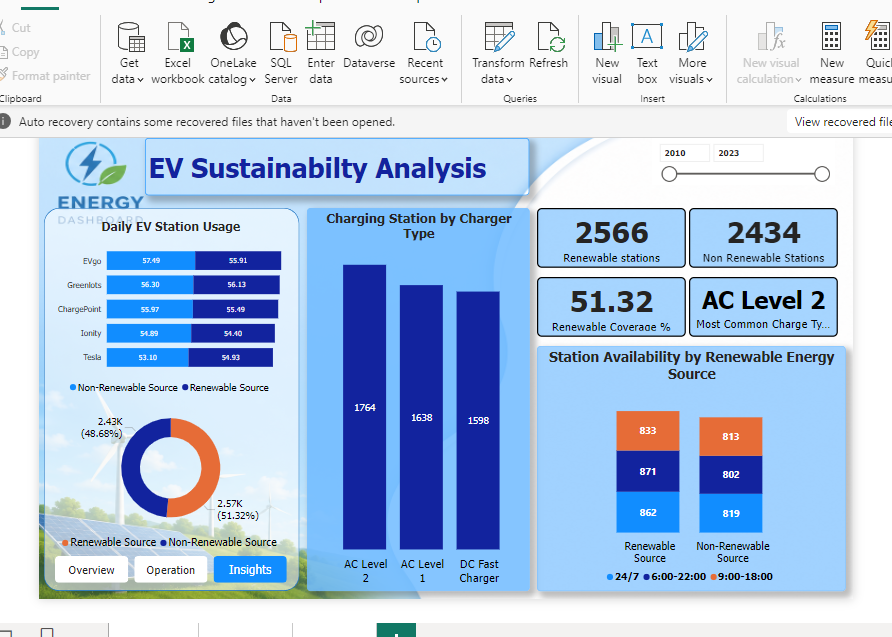

Layout of this report page (visuals, bound fields, positions):
{"tool":"powerbi","page":{"name":"Insights","canvas":[1334,770],"ordinal":2},"visuals":[{"type":"shape","box":[7.4,129.6,418.5,627.8],"z":0},{"type":"donutChart","title":"Renewable Energy Adoption","fields":{"Category":["detailed_ev_charging_stations.Renewable Energy Source"],"Y":["Count(detailed_ev_charging_stations.Station ID)"]},"box":[13.9,444.4,405.6,255.6],"z":1000},{"type":"clusteredColumnChart","title":"Charging Station by Charger Type","fields":{"Category":["detailed_ev_charging_stations.Charger Type"],"Y":["CountNonNull(detailed_ev_charging_stations.Station ID)"]},"box":[438.9,129.6,364.8,627.8],"z":2000},{"type":"columnChart","title":"Station Availability by Renewable Energy Source ","fields":{"Category":["detailed_ev_charging_stations.Renewable Energy Source"],"Series":["detailed_ev_charging_stations.Availability"],"Y":["CountNonNull(detailed_ev_charging_stations.Station ID)"]},"box":[816.7,355.6,505.6,401.9],"z":3000},{"type":"barChart","title":"Daily EV Station Usage","fields":{"Category":["detailed_ev_charging_stations.Station Operator"],"Y":["Avg(detailed_ev_charging_stations.Usage Stats (avg users/day))"],"Series":["detailed_ev_charging_stations.Renewable Energy Source"]},"box":[13,148.1,405.6,296.3],"z":4000},{"type":"slicer","fields":{"Values":["detailed_ev_charging_stations.Installation Year"]},"box":[1005.4,14.3,300,76.8],"z":5000},{"type":"card","fields":{"Values":["Avg Review Score.Renewable Coverage %"]},"box":[816.7,242.6,244.4,98.1],"z":6000},{"type":"card","fields":{"Values":["Avg Review Score.Most Common Charge Type"]},"box":[1064.8,242.9,244,98.4],"z":7000},{"type":"card","fields":{"Values":["Avg Review Score.Renewable stations"]},"box":[816.7,129.6,244.4,98.1],"z":8000},{"type":"card","fields":{"Values":["Avg Review Score.Non Renewable Stations"]},"box":[1064.8,129.6,244.4,98.1],"z":9000},{"type":"shape","box":[174.1,14.8,629.6,94.4],"z":9001},{"type":"pageNavigator","box":[26.4,700,381.9,44.4],"z":9002}]}

Visuals, with their boxes on the page's 1334x770 design canvas (x1, y1, x2, y2). These are canvas units, not pixel positions in the 892x637 screenshot, which may show the page scaled, cropped or inside an application window:
shape: left=7, top=130, right=426, bottom=757
"Renewable Energy Adoption" donutChart: left=14, top=444, right=420, bottom=700
"Charging Station by Charger Type" clusteredColumnChart: left=439, top=130, right=804, bottom=757
"Station Availability by Renewable Energy Source " columnChart: left=817, top=356, right=1322, bottom=758
"Daily EV Station Usage" barChart: left=13, top=148, right=419, bottom=444
slicer - detailed_ev_charging_stations.Installation Year: left=1005, top=14, right=1305, bottom=91
card - Avg Review Score.Renewable Coverage %: left=817, top=243, right=1061, bottom=341
card - Avg Review Score.Most Common Charge Type: left=1065, top=243, right=1309, bottom=341
card - Avg Review Score.Renewable stations: left=817, top=130, right=1061, bottom=228
card - Avg Review Score.Non Renewable Stations: left=1065, top=130, right=1309, bottom=228
shape: left=174, top=15, right=804, bottom=109
pageNavigator: left=26, top=700, right=408, bottom=744
